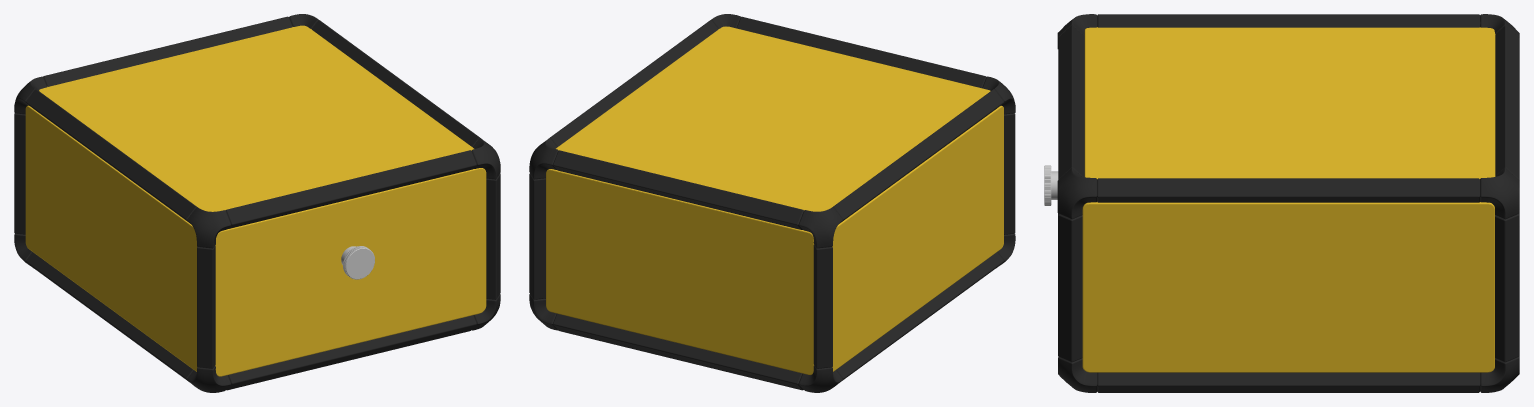
3 views of the same model, side by side, from view 1: azimuth 30°, elevation 25°; view 2: azimuth 150°, elevation 25°; view 3: azimuth 270°, elevation 25° (orthographic). The views are drawn at different scales.
Parts seen in each view (by area): view 1: 329x374x154; view 2: 329x374x154; view 3: 329x374x154.
Part boxes in pixels (x1=…): 329x374x154: x1=14, y1=14, x2=500, y2=392; 329x374x154: x1=529, y1=14, x2=1015, y2=392; 329x374x154: x1=1044, y1=14, x2=1519, y2=392.
Bounding box in the file's own units: 0.4068 × 0.2317 × 0.4646.
